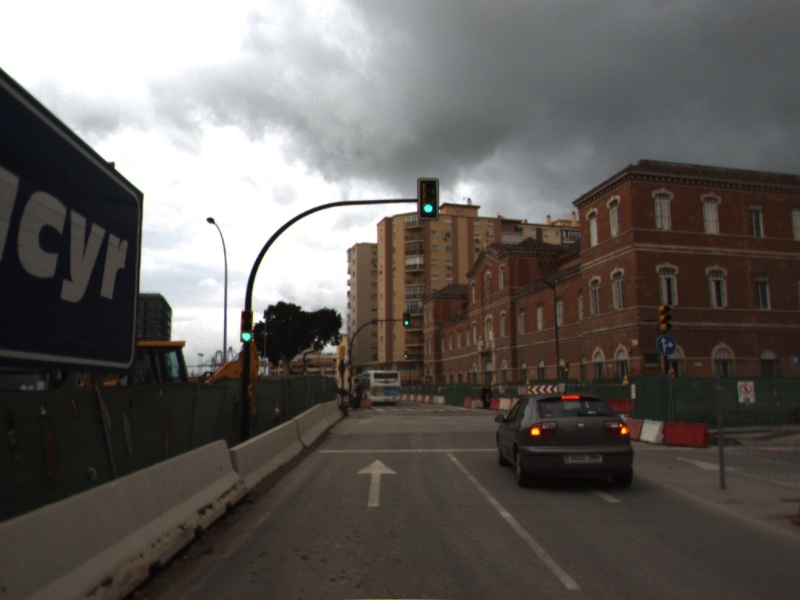STRAIGHT: (354, 458, 399, 509)
